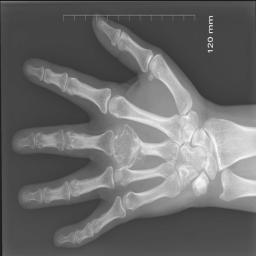cancer: (114, 123, 149, 168)
